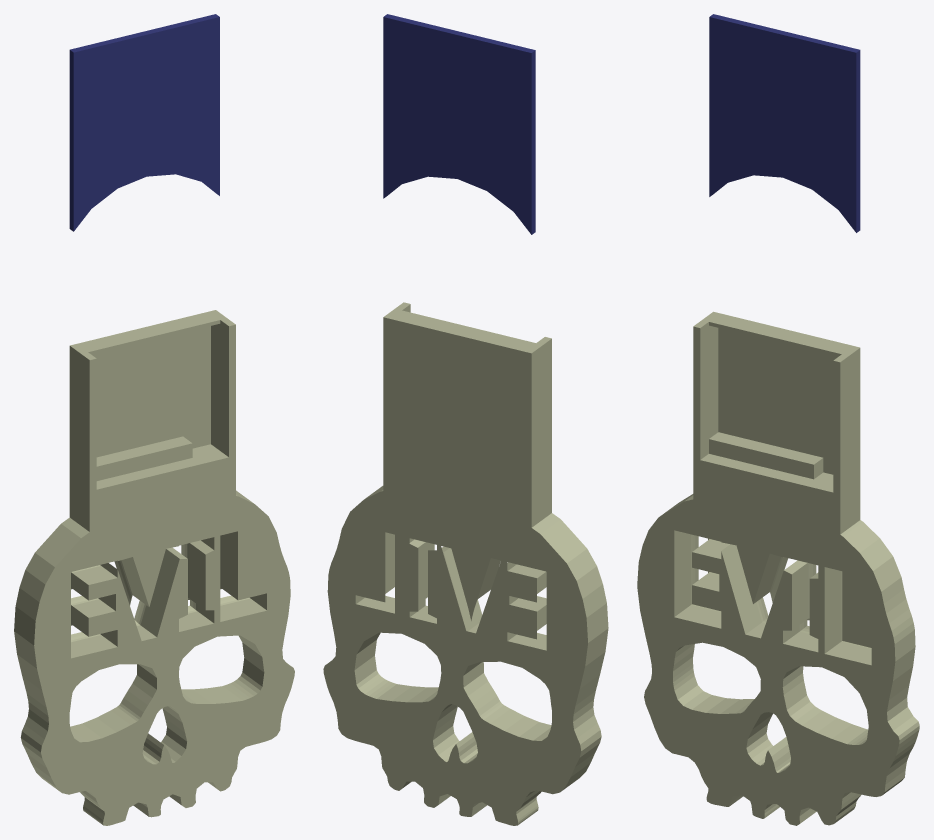
File: tinker.obj
The picture shows the model from 3 angles, left to right: view 1: azimuth 30°, elevation 25°; view 2: azimuth 150°, elevation 25°; view 3: azimuth 330°, elevation 25°; orthographic projection.
Parts seen in each view (by area): view 1: group_0_11909273, group_0_3356795; view 2: group_0_11909273, group_0_3356795; view 3: group_0_11909273, group_0_3356795.
Part boxes in pixels (box(x1,y1,x2,y2)): group_0_11909273: box(14, 310, 294, 825); group_0_3356795: box(69, 14, 219, 231); group_0_11909273: box(323, 302, 608, 825); group_0_3356795: box(383, 14, 535, 234); group_0_11909273: box(637, 311, 919, 825); group_0_3356795: box(709, 14, 860, 232).
Size of the model in its own units: 37.47 by 106 by 5.
